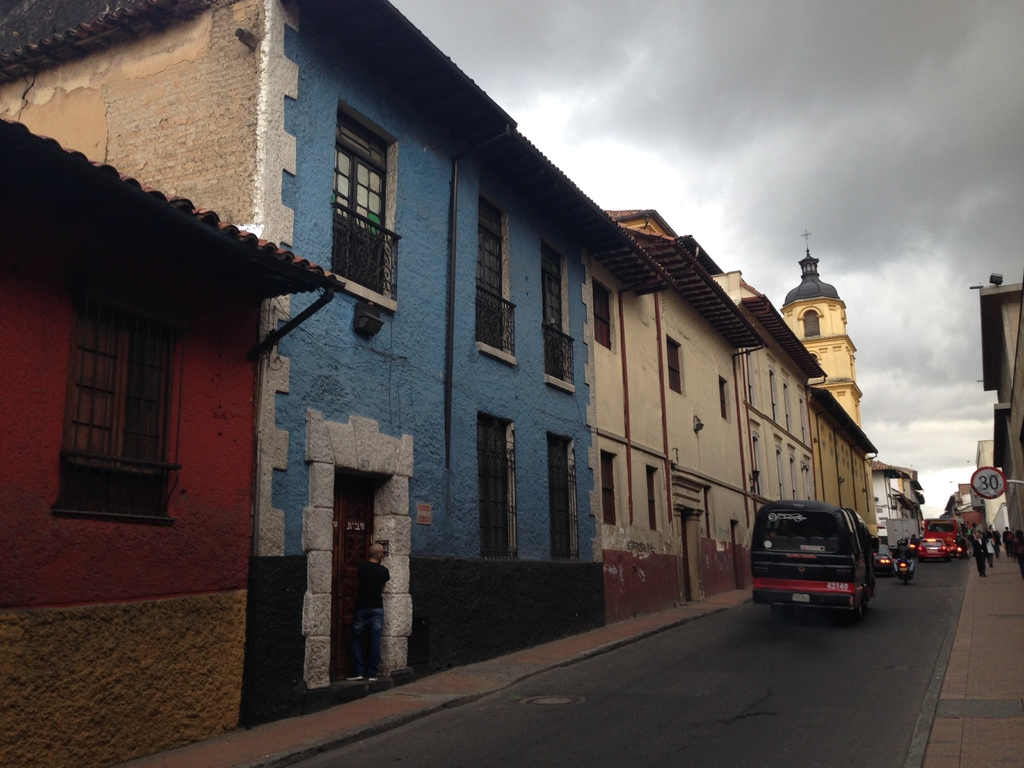Car: (913, 535, 950, 560), (869, 545, 888, 570), (946, 534, 972, 552)
